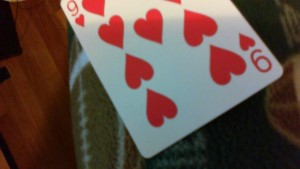NineOfHearts: (59, 1, 283, 159)
